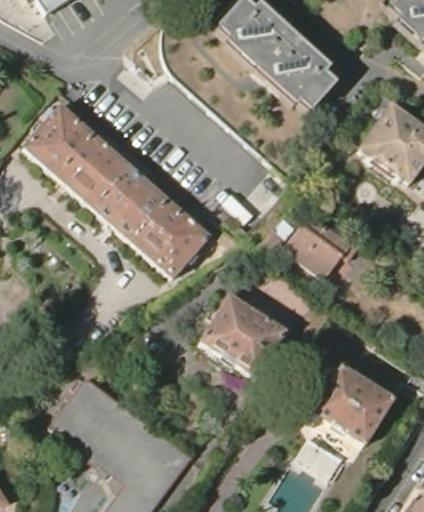pool: (264, 472, 323, 511)
